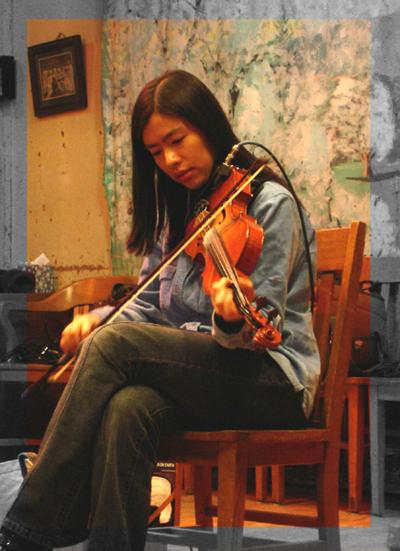person: (2, 69, 322, 550)
